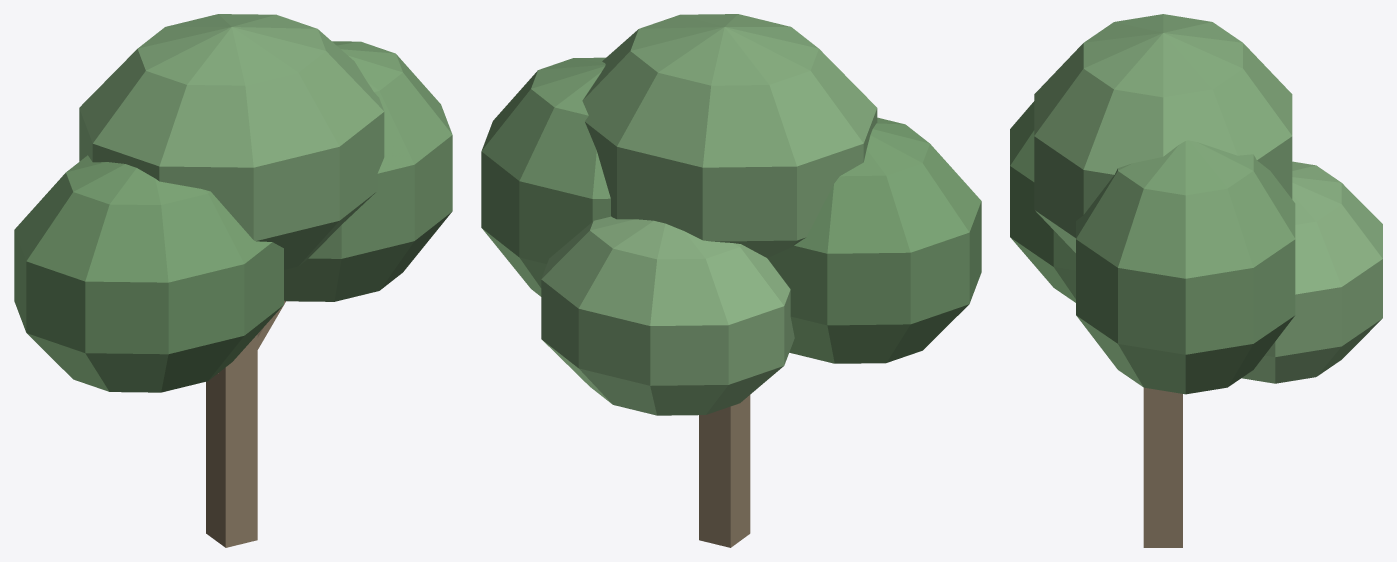
The picture shows the model from 3 angles, left to right: view 1: azimuth 30°, elevation 25°; view 2: azimuth 150°, elevation 25°; view 3: azimuth 270°, elevation 25°; orthographic projection.
Size of the model in its own units: 15.09 by 16.5 by 10.99.
